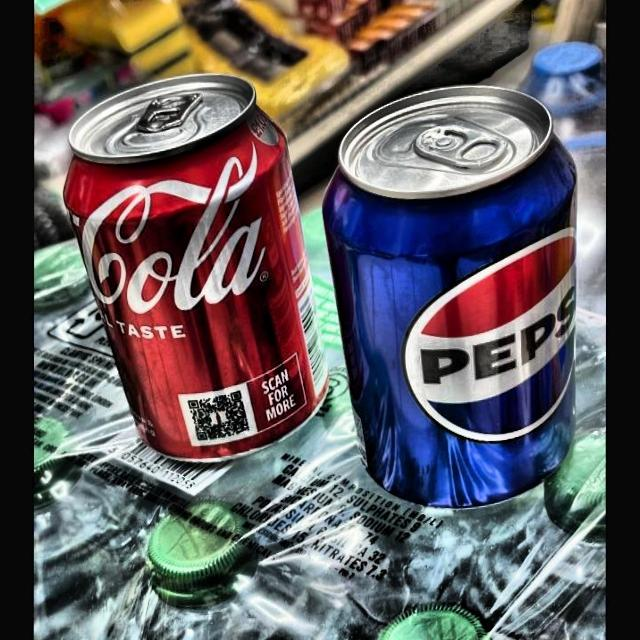coke-can: (66, 80, 336, 463)
pepsi-can: (326, 88, 580, 504)
